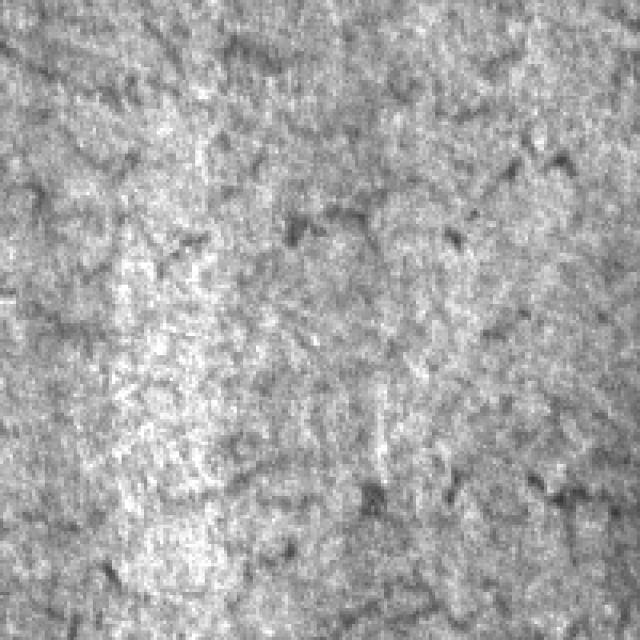crazing: (163, 444, 634, 634), (13, 131, 595, 275), (12, 3, 426, 144)
